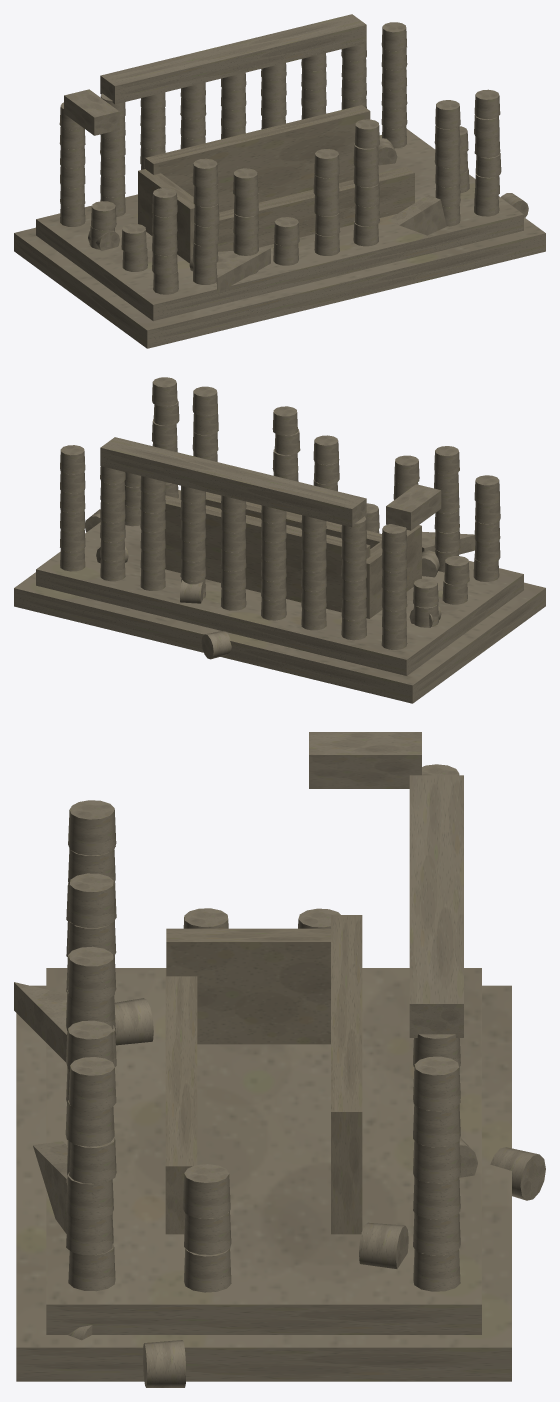
File: greek-temple-ruin.glb
3 renders of one model, top to bottom at view 1: azimuth 30°, elevation 25°; view 2: azimuth 150°, elevation 25°; view 3: azimuth 270°, elevation 25°, orthographic. The views are drawn at different scales.
Size of the model in its own units: 11.92 by 4.57 by 7.08.
Materials: 2 (2 with a texture image).
